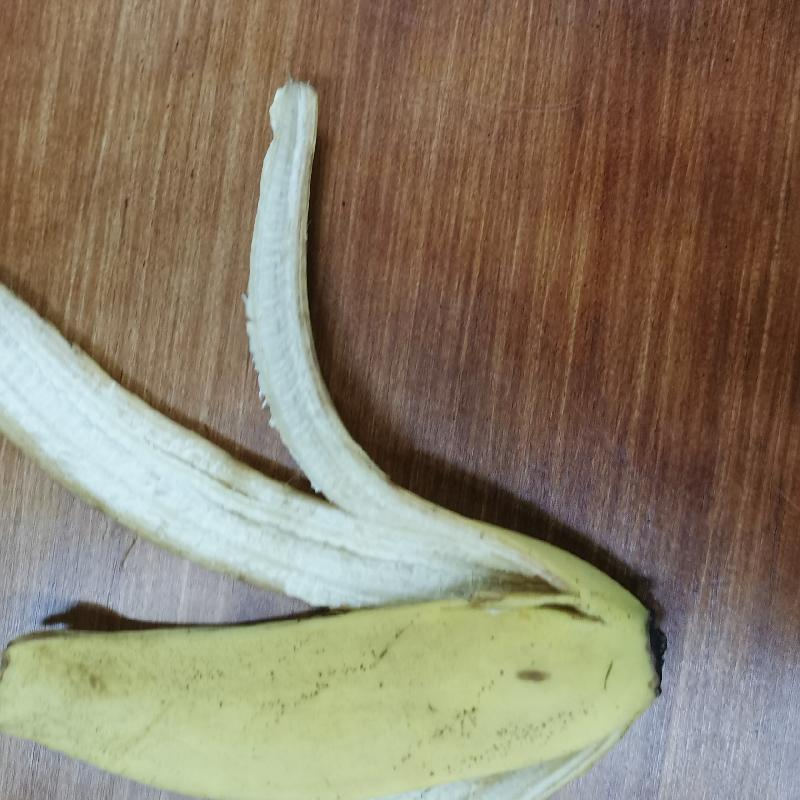bananas: (8, 73, 669, 800)
